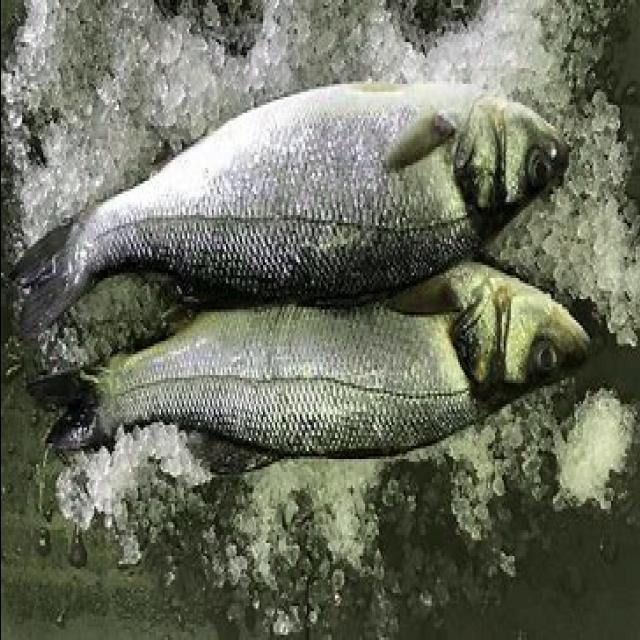Healthy Fish: (12, 80, 572, 318), (39, 260, 601, 460)
